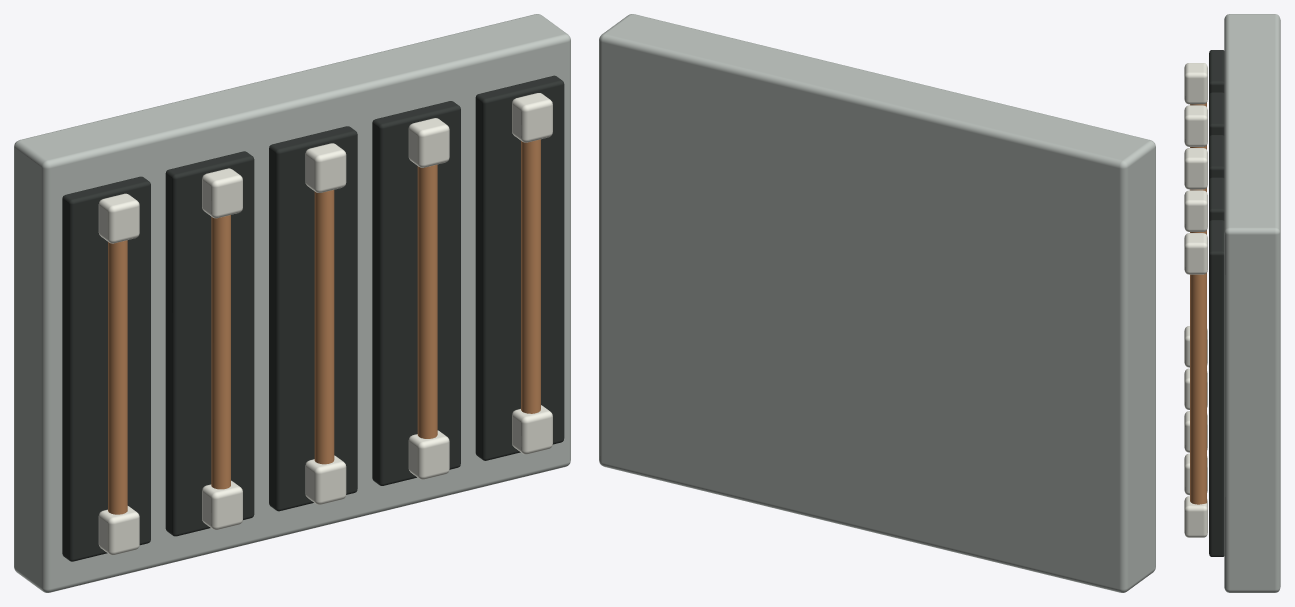
The model's file is spacecraft-thermal-test-chamber-infrared-lamp-bank-c587c915__32061.glb.
3 views of the same model, side by side, from view 1: azimuth 30°, elevation 25°; view 2: azimuth 150°, elevation 25°; view 3: azimuth 270°, elevation 25° (orthographic). The views are drawn at different scales.
Visible parts, largest first — view 1: infrared-lamp-bank; view 2: infrared-lamp-bank; view 3: infrared-lamp-bank.
Part boxes in pixels (x1,y1,x2,y2): infrared-lamp-bank: (14,14,570,592); infrared-lamp-bank: (599,14,1155,592); infrared-lamp-bank: (1184,14,1280,592).
Size of the model in its own units: 1.1 by 0.86 by 0.205.
